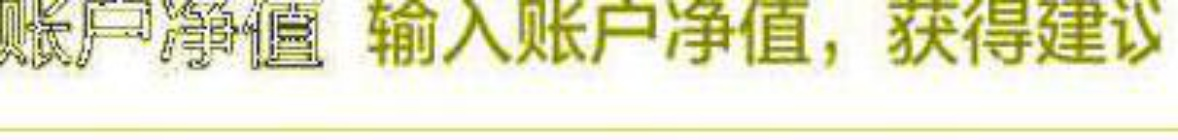EditText: (1, 1, 1177, 139)
